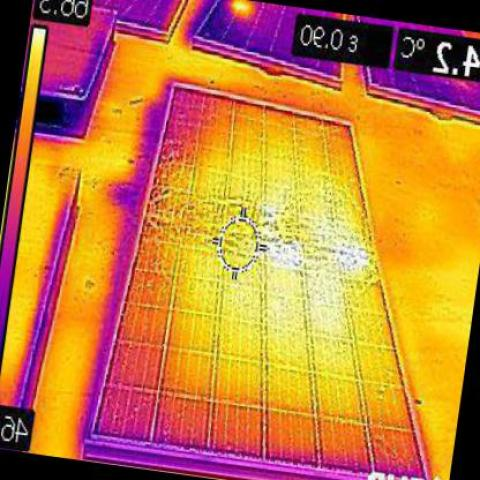fault: (335, 247, 374, 280), (266, 238, 298, 266)
